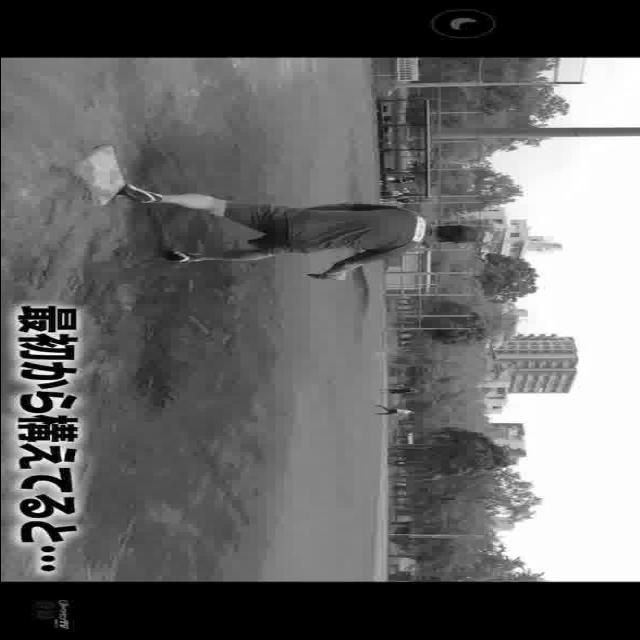base: (81, 147, 125, 205)
baseball_glove: (301, 270, 345, 286)
shoe: (114, 182, 160, 206), (162, 246, 198, 264)
